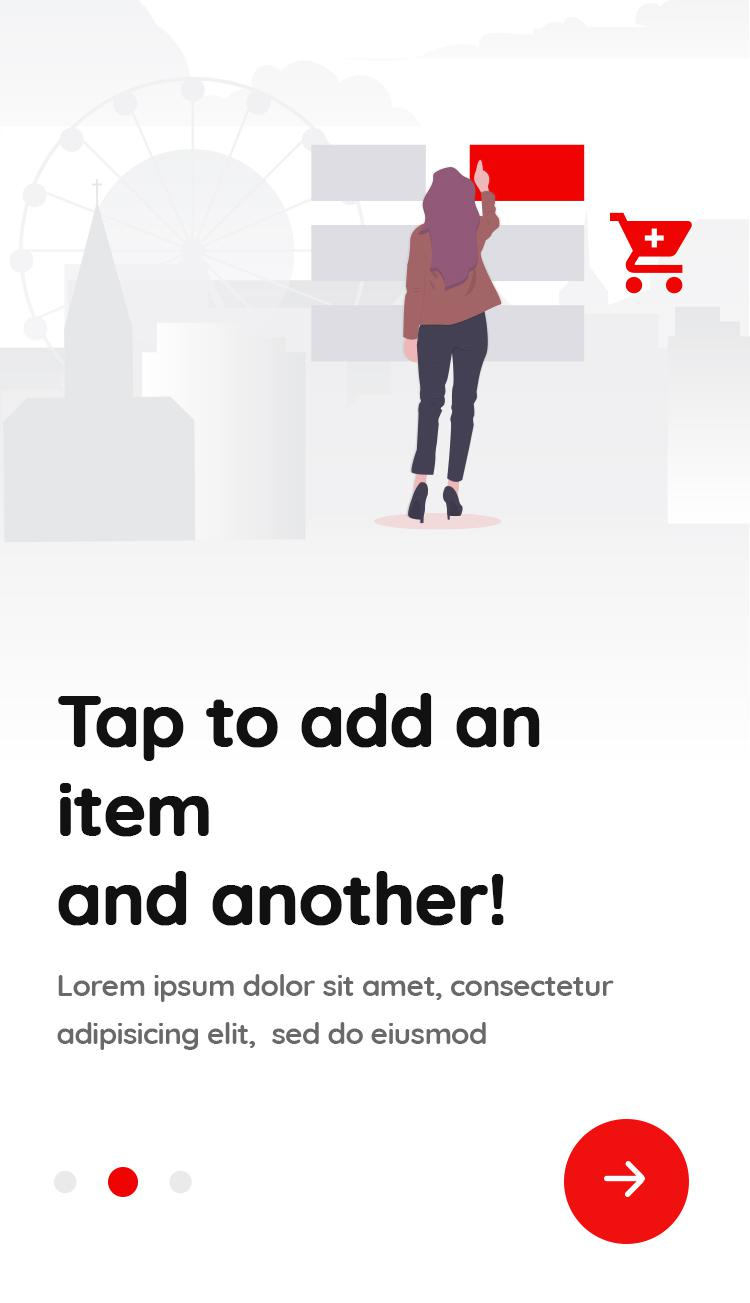Icon: (562, 1117, 691, 1246)
Image: (1, 1, 750, 544)
PageIndicator: (53, 1164, 195, 1199)
Text: (56, 690, 543, 929), (56, 972, 614, 1053)
